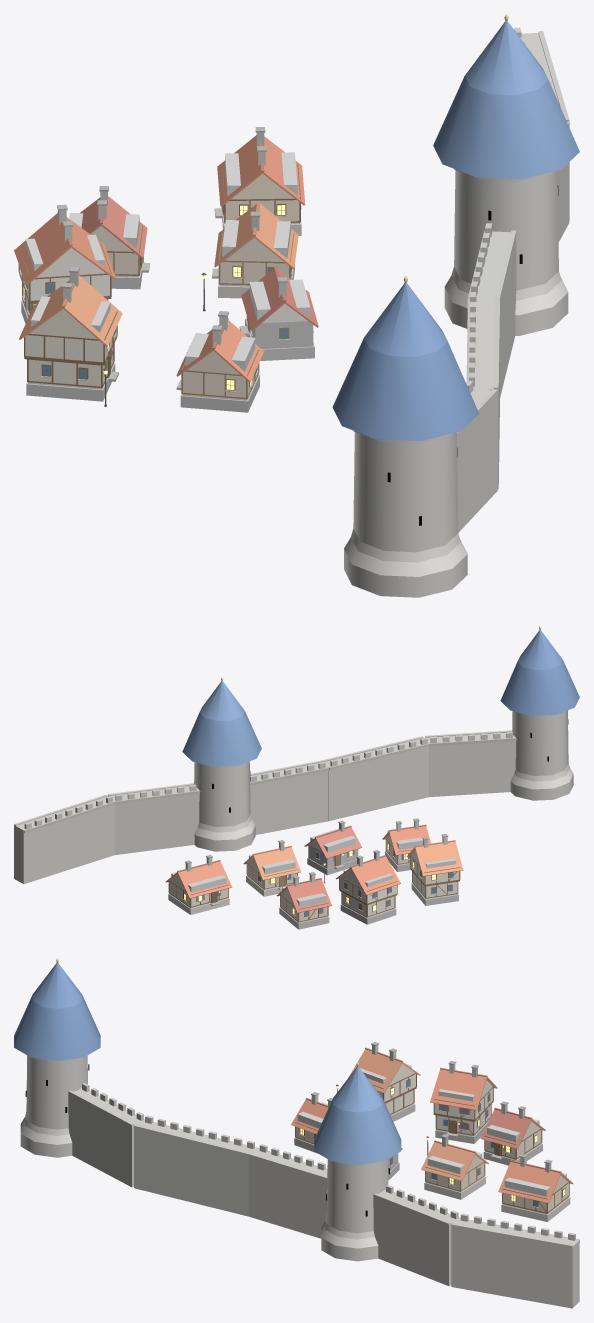
File: struct_9_9.glb
The picture shows the model from 3 angles, top to bottom: view 1: azimuth 30°, elevation 25°; view 2: azimuth 150°, elevation 25°; view 3: azimuth 270°, elevation 25°; orthographic projection. The views are drawn at different scales.
Visible parts, largest first — view 1: Landmarks, HousesNear, Occluder-occonly, HousesFar; view 2: Landmarks, HousesNear, Occluder-occonly; view 3: Landmarks, HousesNear, Occluder-occonly.
Part boxes in pixels (left/top/right/bottom): Landmarks: left=103, top=14, right=579, bottom=597; HousesNear: left=14, top=135, right=318, bottom=412; Occluder-occonly: left=25, top=152, right=310, bottom=371; HousesFar: left=57, top=127, right=265, bottom=359; Landmarks: left=14, top=626, right=579, bottom=883; HousesNear: left=165, top=818, right=463, bottom=929; Occluder-occonly: left=171, top=828, right=456, bottom=907; Landmarks: left=14, top=958, right=579, bottom=1308; HousesNear: left=291, top=1047, right=573, bottom=1221; Occluder-occonly: left=297, top=1063, right=566, bottom=1196.
Size of the model in its own units: 78.5 by 32.79 by 92.01.
